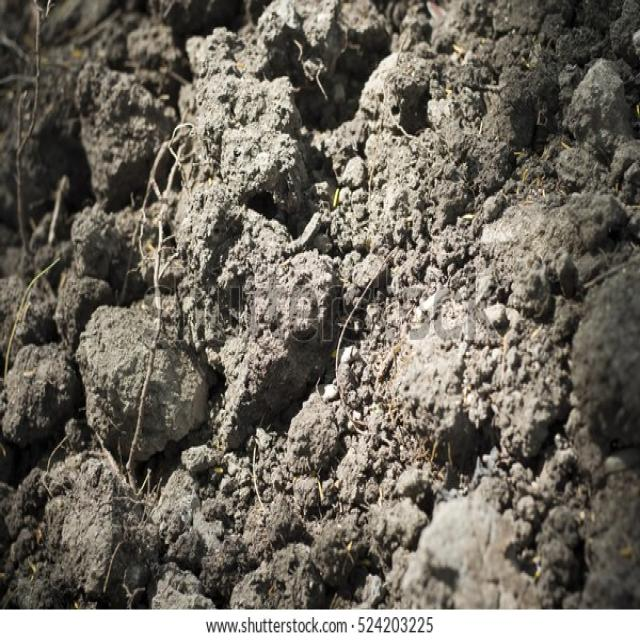Alluvial Soil: (360, 68, 604, 548), (65, 110, 305, 574)
